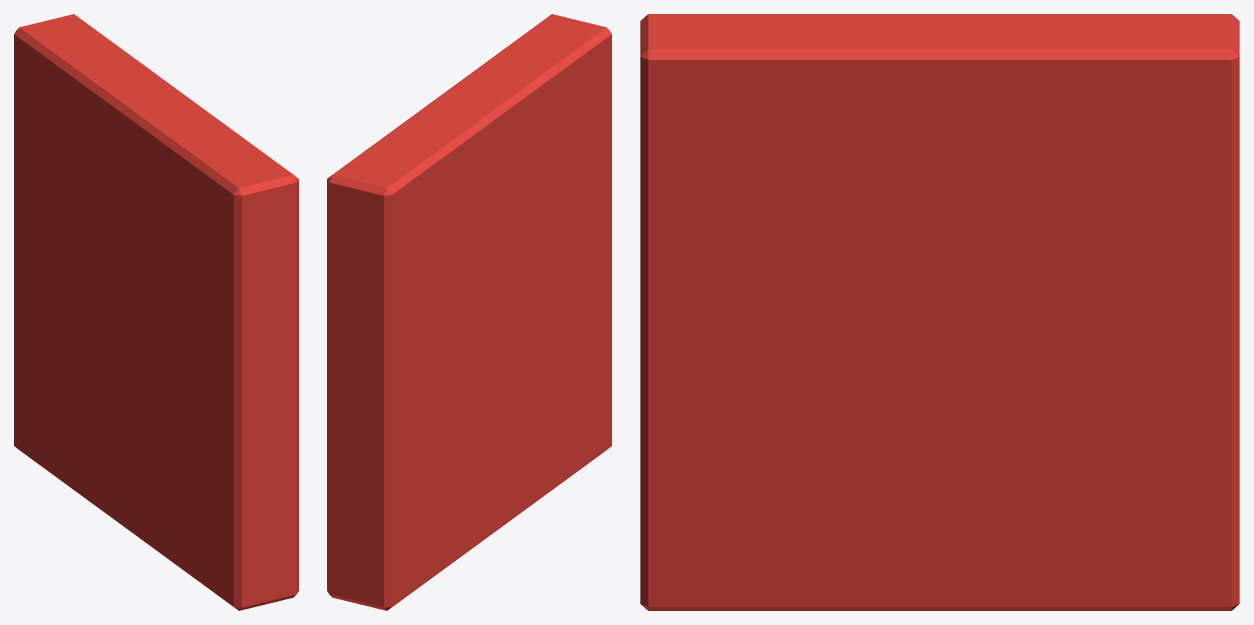
Rendered from block_wall.glb.
3 views of the same model, side by side, from view 1: azimuth 30°, elevation 25°; view 2: azimuth 150°, elevation 25°; view 3: azimuth 270°, elevation 25° (orthographic). The views are drawn at different scales.
Parts seen in each view (by area): view 1: block_wall; view 2: block_wall; view 3: block_wall.
Part boxes in pixels (left/top/right/bottom): block_wall: left=14, top=14, right=298, bottom=610; block_wall: left=327, top=14, right=611, bottom=610; block_wall: left=640, top=14, right=1239, bottom=610.
Size of the model in its own units: 0.1 by 0.62 by 0.6.
